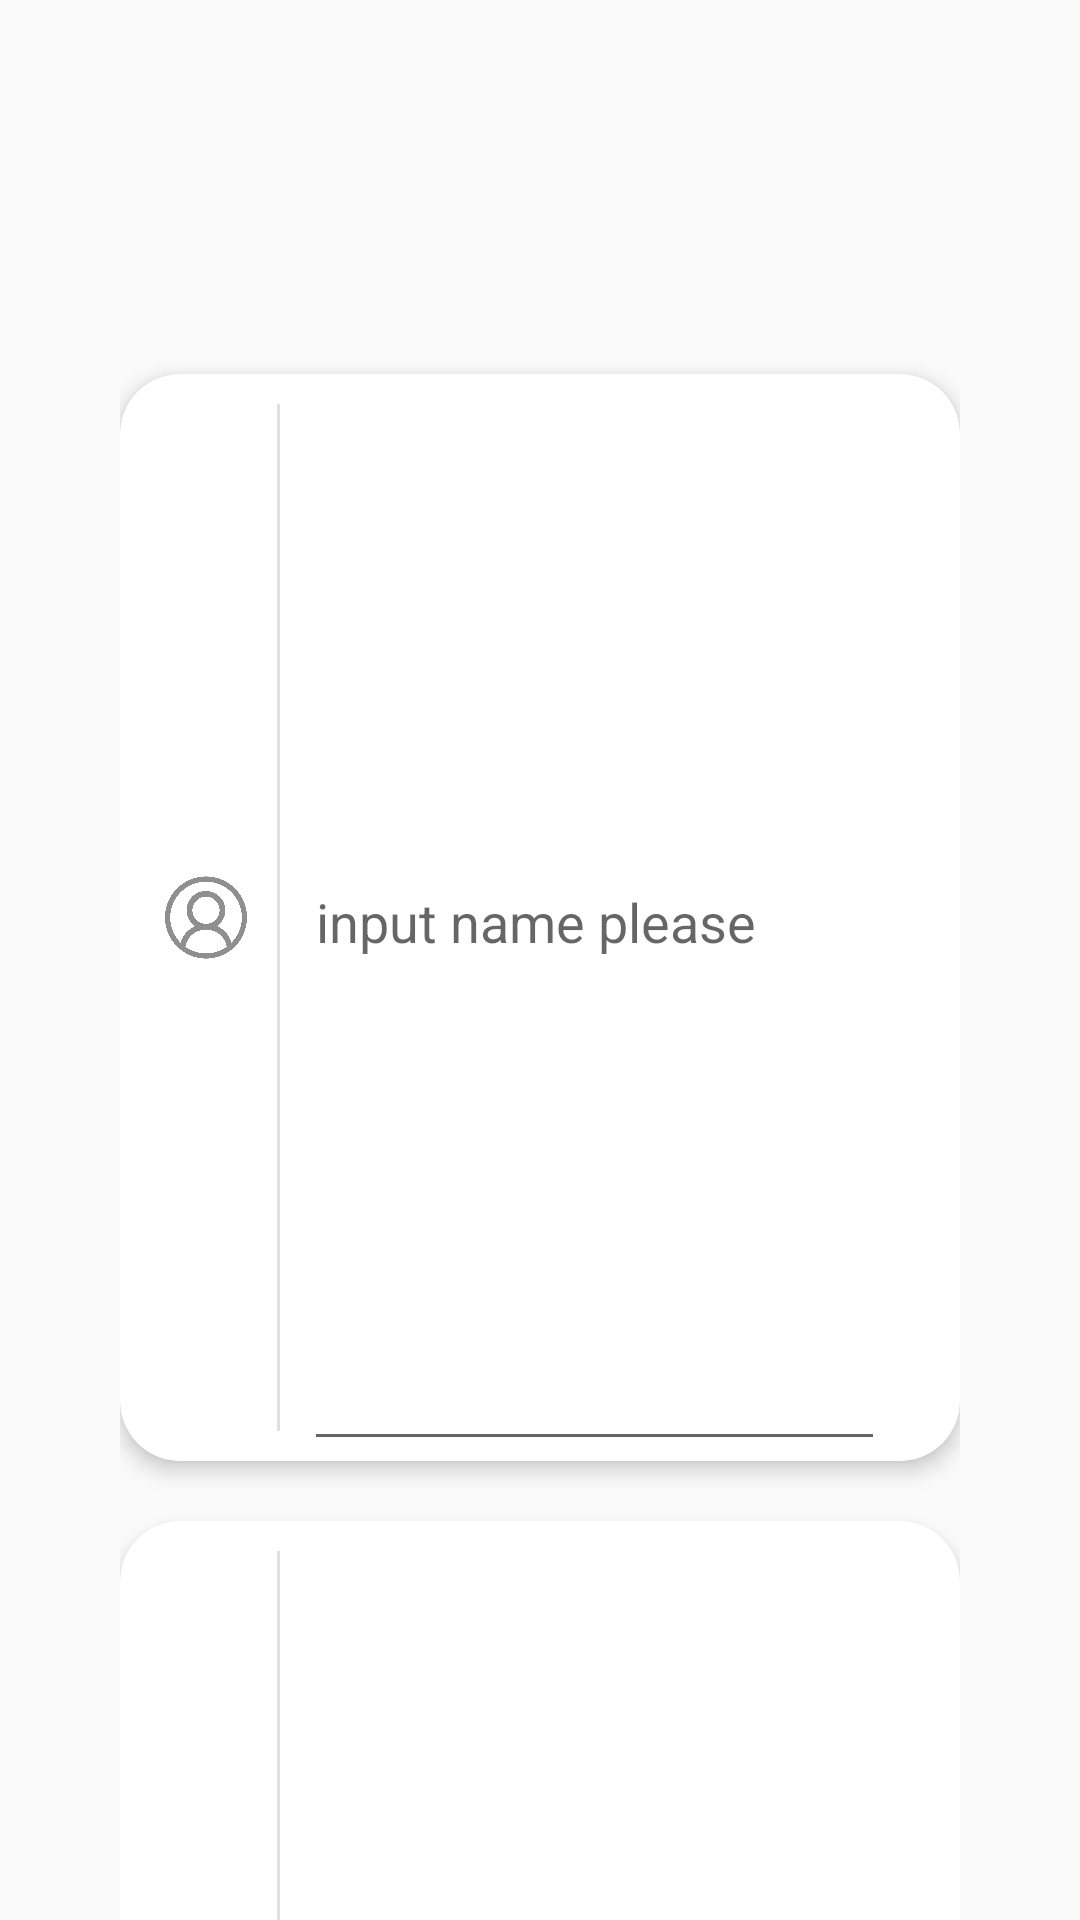

Where to tap for icons on this 1080px x 1920px app screen, as (x,y):
account: (206,917)
